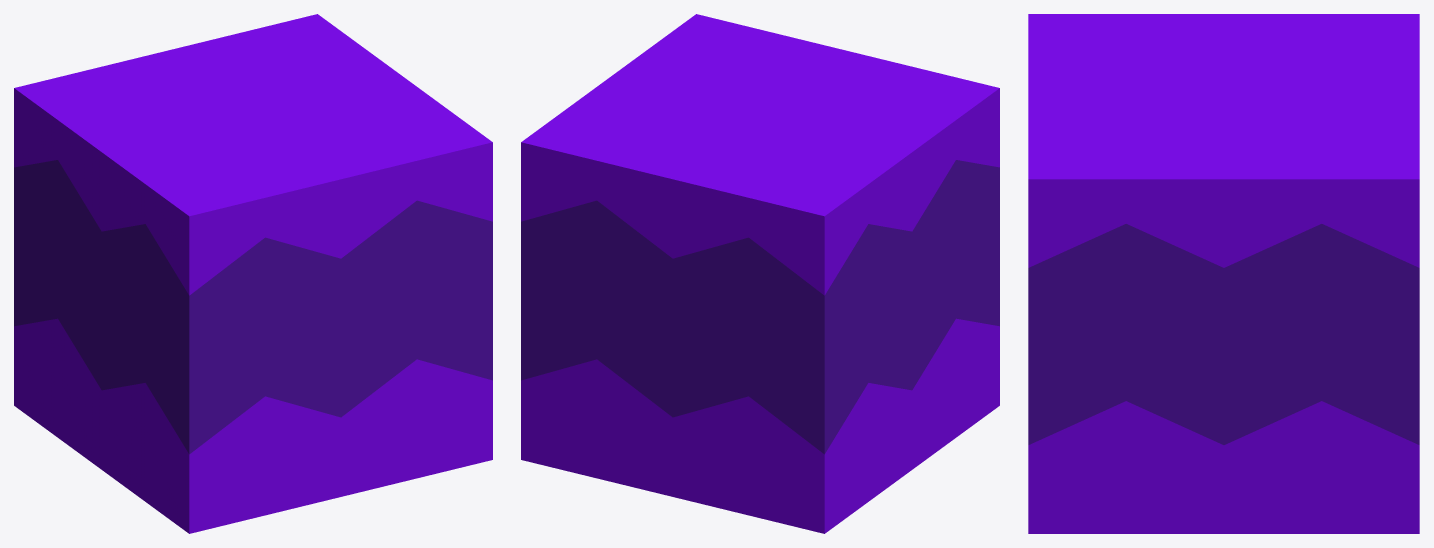
The model's file is Level One Bottom Block.fbx.
3 renders of one model, left to right at view 1: azimuth 30°, elevation 25°; view 2: azimuth 150°, elevation 25°; view 3: azimuth 270°, elevation 25°, orthographic. The views are drawn at different scales.
Visible parts, largest first — view 1: Cube; view 2: Cube; view 3: Cube.
Part boxes in pixels (x1,y1,x2,y2): Cube: [14, 14, 492, 533]; Cube: [521, 14, 999, 533]; Cube: [1028, 14, 1419, 533].
Bounding box in the file's own units: 200 × 200 × 200.
